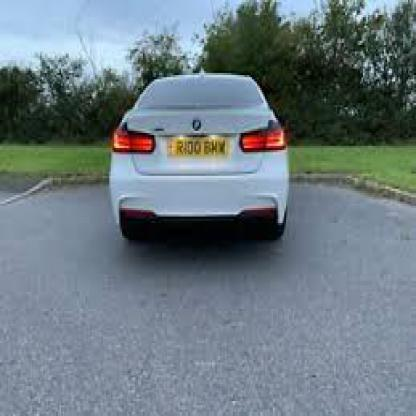car: (109, 64, 291, 249)
